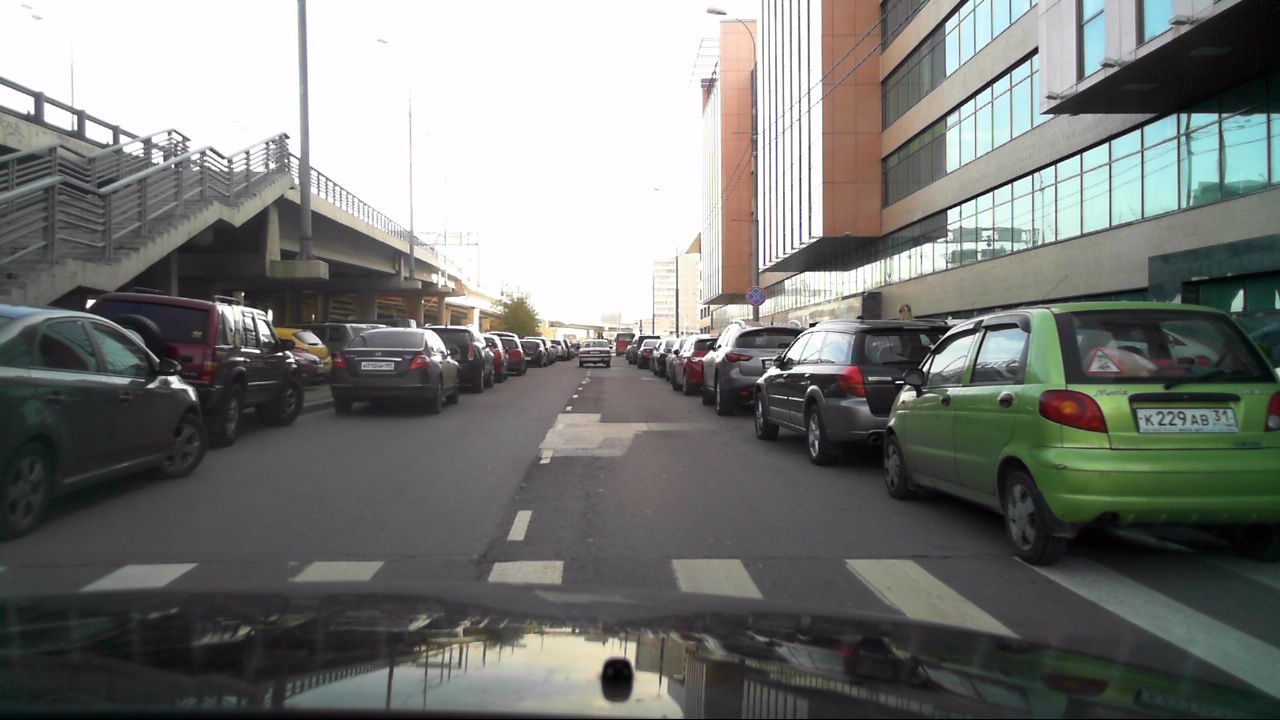No Parking: (745, 285, 767, 306)
